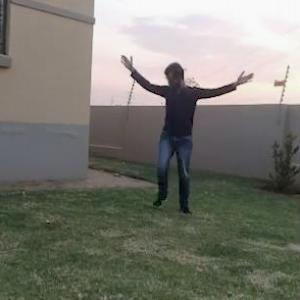takeoff: (117, 41, 260, 208)
